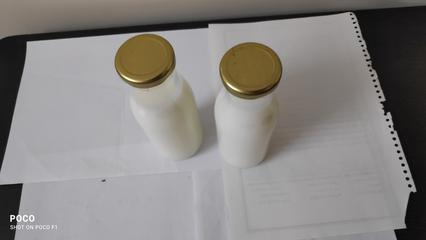milk: (112, 33, 202, 176), (206, 46, 291, 193)
